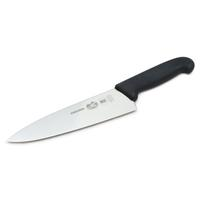knife: (6, 45, 194, 151)
